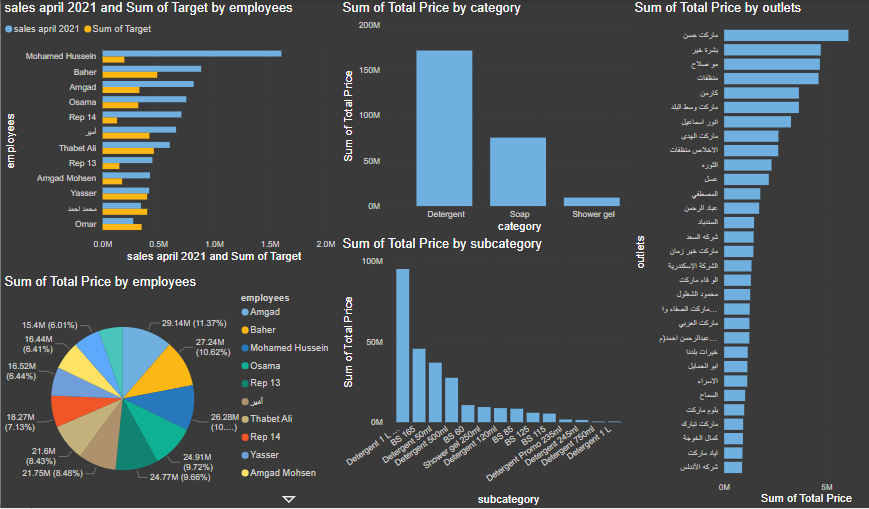

The dashboard page shown, as its layout file describes it:
{"tool":"powerbi","page":{"name":"Page 1","canvas":[1280,720],"ordinal":0},"visuals":[{"type":"clusteredBarChart","fields":{"Category":["sales and target of april.employees"],"Y":["sales and target of april.sales april 2021","sales and target of april.Sum of Target"]},"box":[0,0,479.1,375.6],"z":0},{"type":"pieChart","fields":{"Category":["sales by employees.employees"],"Y":["sales by employees.Sum of Total Price"]},"box":[0,388.3,479.1,331.7],"z":1000},{"type":"columnChart","fields":{"Category":["sales by category.category"],"Y":["sales by category.Sum of Total Price"]},"box":[478.6,0,448.7,334.5],"z":2000},{"type":"lineClusteredColumnComboChart","fields":{"Category":["sales by subcategory.subcategory"],"Y":["sales by subcategory.Sum of Total Price"]},"box":[479.1,334.5,413.9,385.5],"z":3000},{"type":"barChart","fields":{"Category":["sales by outlets.outlets"],"Y":["sales by outlets.Sum of Total Price"]},"box":[892.9,0,386.9,720],"z":4000}]}

Visuals, with their boxes on the page's 1280x720 design canvas (x1, y1, x2, y2). These are canvas units, not pixel positions in the 869x509 screenshot, which may show the page scaled, cropped or inside an application window:
clusteredBarChart - sales and target of april.employees x sales and target of april.sales april 2021: detection(0, 0, 479, 376)
pieChart - sales by employees.employees x sales by employees.Sum of Total Price: detection(0, 388, 479, 720)
columnChart - sales by category.category x sales by category.Sum of Total Price: detection(479, 0, 927, 334)
lineClusteredColumnComboChart - sales by subcategory.subcategory x sales by subcategory.Sum of Total Price: detection(479, 334, 893, 720)
barChart - sales by outlets.outlets x sales by outlets.Sum of Total Price: detection(893, 0, 1280, 720)
